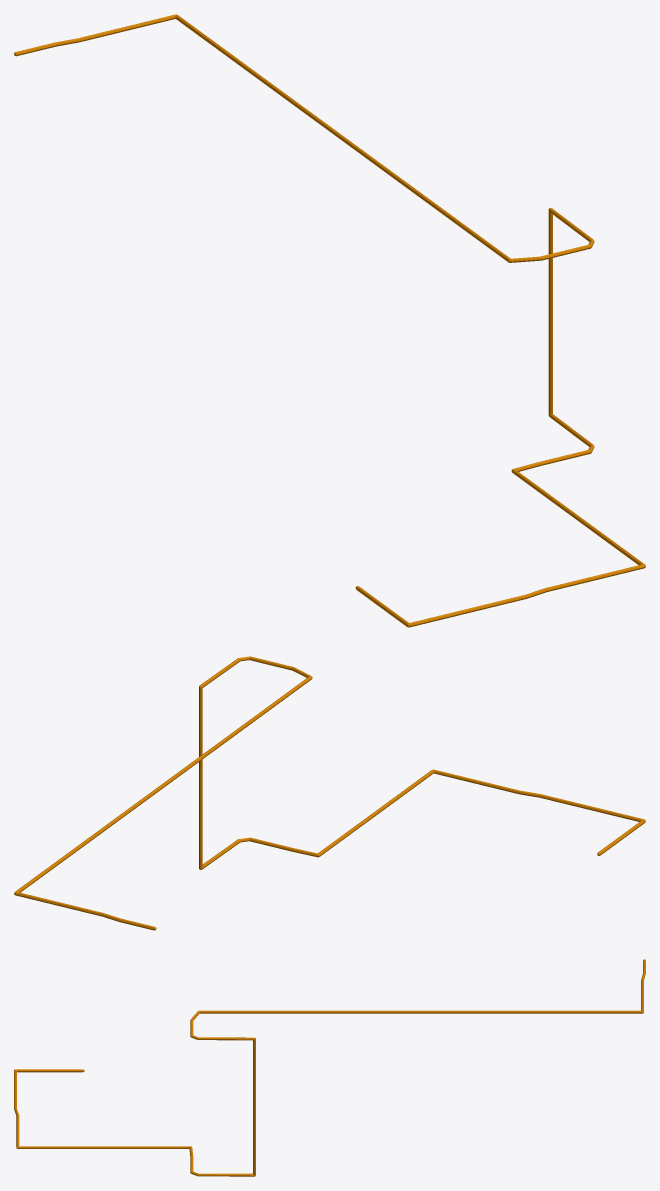
3 views of the same model, one above another, from view 1: azimuth 30°, elevation 25°; view 2: azimuth 150°, elevation 25°; view 3: azimuth 270°, elevation 25° (orthographic). The views are drawn at different scales.
Bounding box in the file's own units: 1663 × 1020 × 4204.
